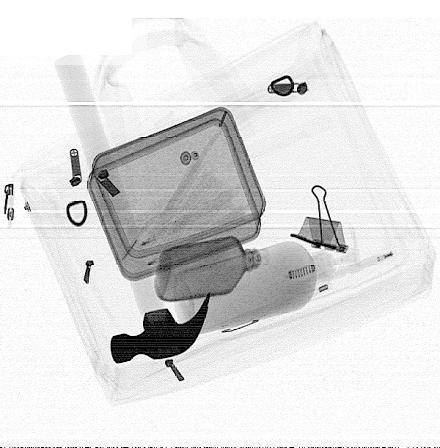Hammer: (53, 48, 212, 366)
